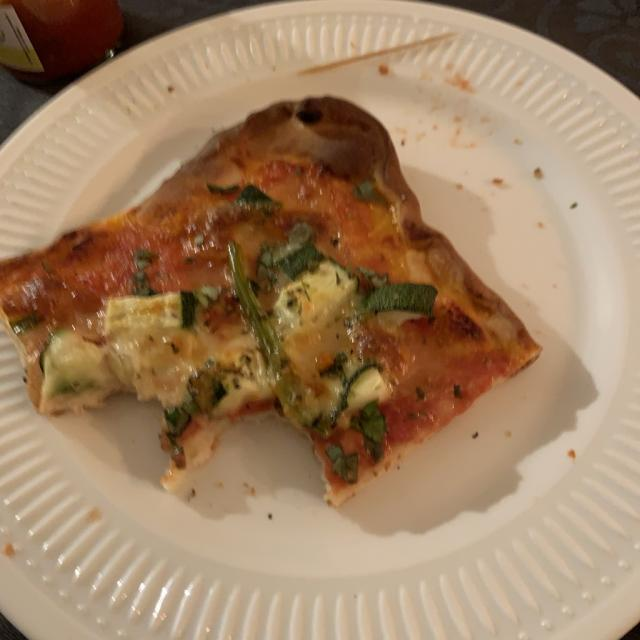pizza-with-vegetables-baked: (8, 106, 536, 503)
